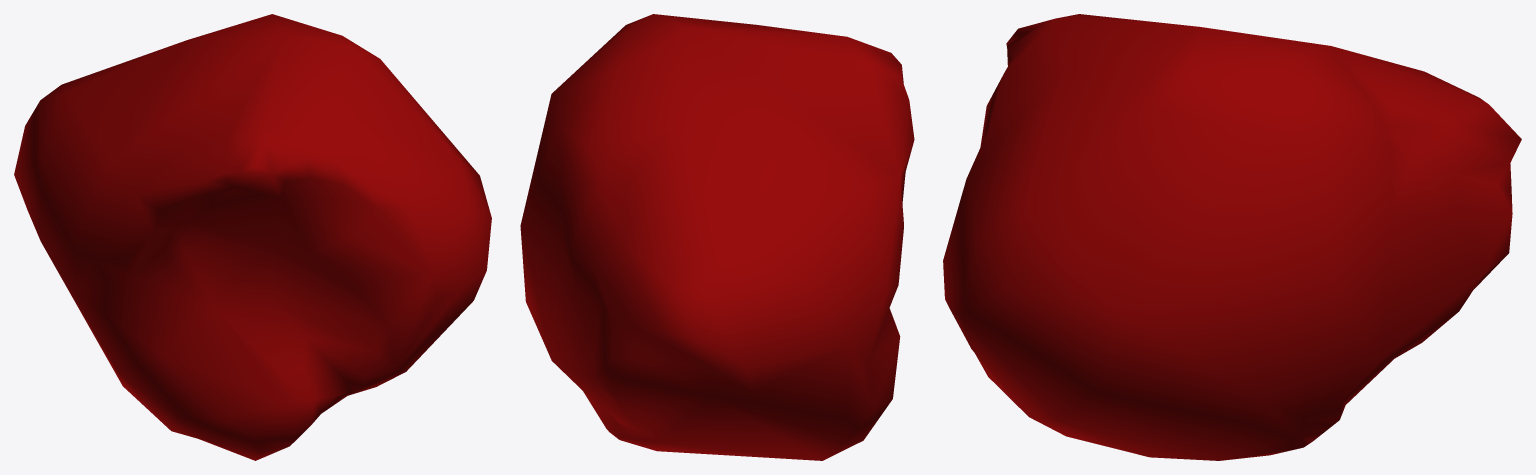
The model's file is Asteroid7.FBX.
The picture shows the model from 3 angles, left to right: view 1: azimuth 30°, elevation 25°; view 2: azimuth 150°, elevation 25°; view 3: azimuth 270°, elevation 25°; orthographic projection. The views are drawn at different scales.
Parts seen in each view (by area): view 1: Sphere11; view 2: Sphere11; view 3: Sphere11.
Boxes of the visible parts, x1=… form: Sphere11: x1=14, y1=14, x2=491, y2=460; Sphere11: x1=520, y1=14, x2=914, y2=460; Sphere11: x1=943, y1=14, x2=1521, y2=460.
Bounding box in the file's own units: 646 × 657 × 760.
